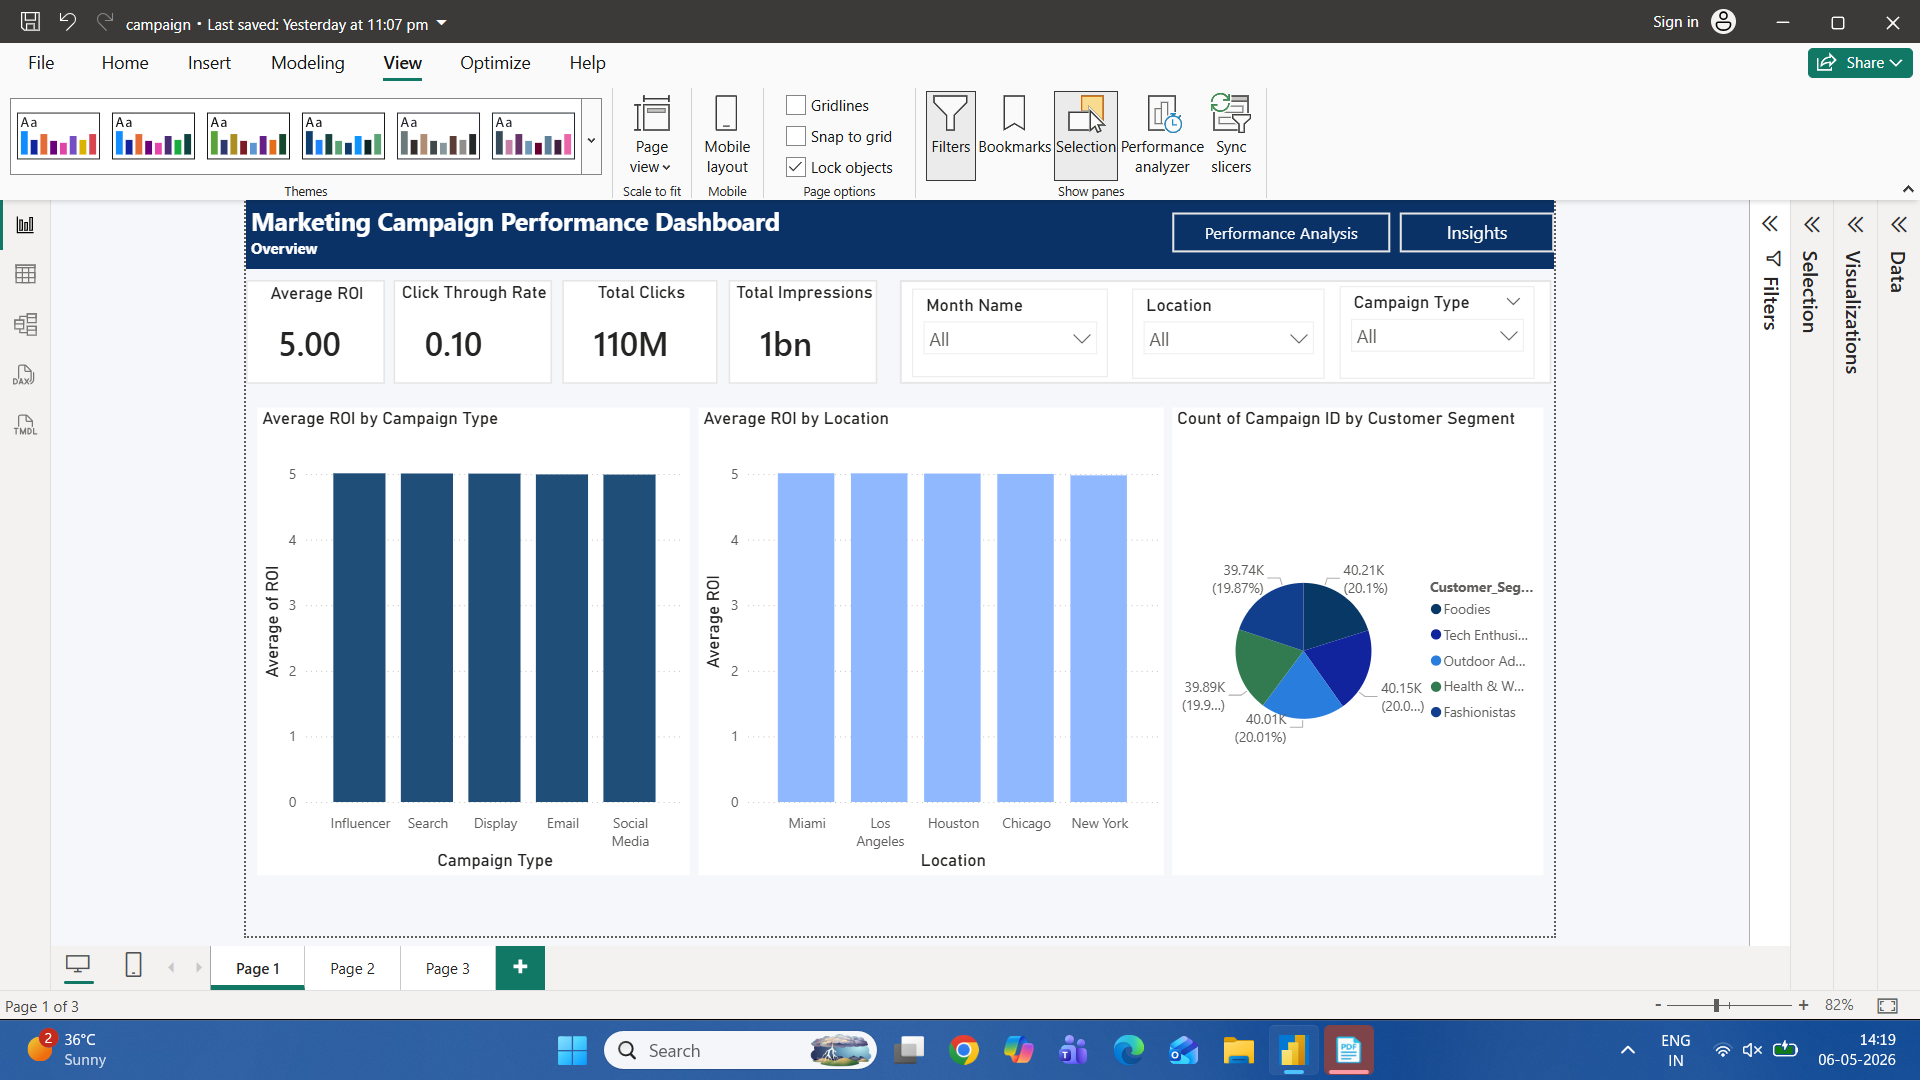

Layout of this report page (visuals, bound fields, positions):
{"tool":"powerbi","page":{"name":"Page 1","canvas":[1280,720],"ordinal":0},"visuals":[{"type":"cardVisual","title":"Average ROI","fields":{"Data":["Avg(cleaned_marketing_data.ROI)"]},"box":[0,78.3,135.7,101.5],"z":0},{"type":"shape","box":[639.5,78.3,637.8,101.7],"z":0,"group":"g1"},{"type":"textbox","box":[0,0,719.5,67],"z":1000,"group":"g2"},{"type":"cardVisual","title":"Total Clicks","fields":{"Data":["cleaned_marketing_data.Total Clicks"]},"box":[309.4,78.3,151.6,101.5],"z":1000},{"type":"slicer","fields":{"Values":["cleaned_marketing_data.Campaign_Type"]},"box":[1070,84.1,190.8,90.5],"z":1000,"group":"g1"},{"type":"cardVisual","title":"Total Impressions","fields":{"Data":["cleaned_marketing_data.Total Impressions"]},"box":[472,78.3,145.5,101.5],"z":2000},{"type":"slicer","fields":{"Values":["cleaned_marketing_data.Month_Name"]},"box":[651.8,86.6,191.2,86.7],"z":2000,"group":"g1"},{"type":"cardVisual","title":"Click Through Rate","fields":{"Data":["cleaned_marketing_data.CTR %"]},"box":[144.3,78.3,155.3,101.5],"z":3000},{"type":"slicer","fields":{"Values":["cleaned_marketing_data.Location"]},"box":[867,86.5,188.3,88],"z":3000,"group":"g1"},{"type":"clusteredColumnChart","title":"Average ROI by Campaign Type","fields":{"Category":["cleaned_marketing_data.Campaign_Type"],"Y":["Avg(cleaned_marketing_data.ROI)"]},"box":[11,203,423.1,457.3],"z":4000},{"type":"clusteredColumnChart","fields":{"Category":["cleaned_marketing_data.Location"],"Y":["cleaned_marketing_data.Avg ROI"]},"box":[442.7,203,454.9,457.3],"z":5000},{"type":"pieChart","title":"Count of Campaign ID by Customer Segment","fields":{"Category":["cleaned_marketing_data.Customer_Segment"],"Y":["CountNonNull(cleaned_marketing_data.Campaign_ID)"]},"box":[906.1,203,363.2,457.3],"z":6000},{"type":"group","id":"g1","title":"Group 1","box":[639.5,78.3,638.3,101.5],"z":7000},{"type":"group","id":"g2","title":"Group 2","box":[0,0,1280.3,67.3],"z":8000},{"type":"actionButton","title":"Performance","box":[905.7,12.1,213.3,39.1],"z":9000,"group":"g2"},{"type":"actionButton","box":[1128.9,12.1,151.2,39.1],"z":10000,"group":"g2"}]}

Visuals, with their boxes on the page's 1280x720 design canvas (x1, y1, x2, y2). These are canvas units, not pixel positions in the 1920x1080 screenshot, which may show the page scaled, cropped or inside an application window:
"Average ROI" cardVisual: box(0, 78, 136, 180)
shape: box(640, 78, 1277, 180)
textbox: box(0, 0, 720, 67)
"Total Clicks" cardVisual: box(309, 78, 461, 180)
slicer - cleaned_marketing_data.Campaign_Type: box(1070, 84, 1261, 175)
"Total Impressions" cardVisual: box(472, 78, 618, 180)
slicer - cleaned_marketing_data.Month_Name: box(652, 87, 843, 173)
"Click Through Rate" cardVisual: box(144, 78, 300, 180)
slicer - cleaned_marketing_data.Location: box(867, 86, 1055, 174)
"Average ROI by Campaign Type" clusteredColumnChart: box(11, 203, 434, 660)
clusteredColumnChart - cleaned_marketing_data.Location x cleaned_marketing_data.Avg ROI: box(443, 203, 898, 660)
"Count of Campaign ID by Customer Segment" pieChart: box(906, 203, 1269, 660)
"Group 1" group: box(640, 78, 1278, 180)
"Group 2" group: box(0, 0, 1280, 67)
"Performance" actionButton: box(906, 12, 1119, 51)
actionButton: box(1129, 12, 1280, 51)
